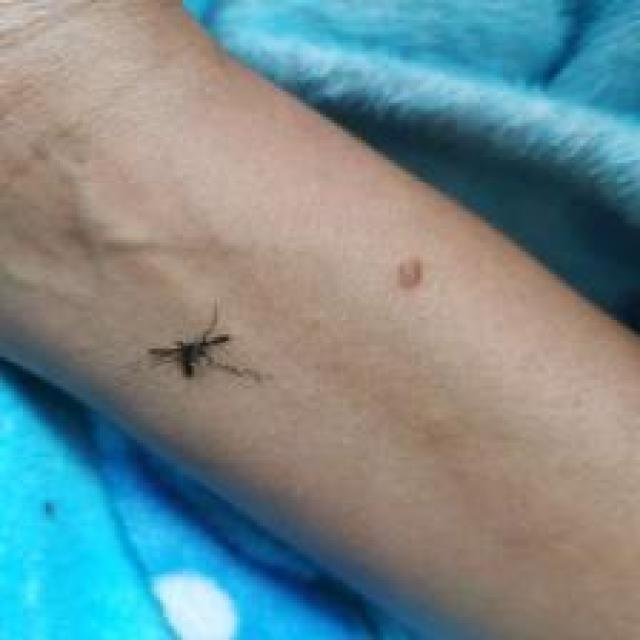Aedes albopictus: (144, 300, 259, 386)
